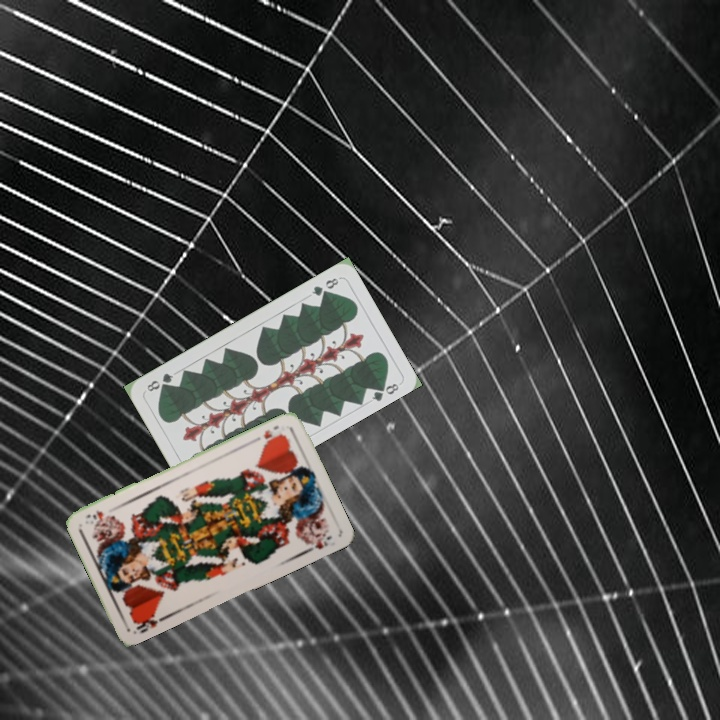G8: (308, 274, 341, 299)
HO: (249, 421, 288, 446), (130, 609, 161, 636)
